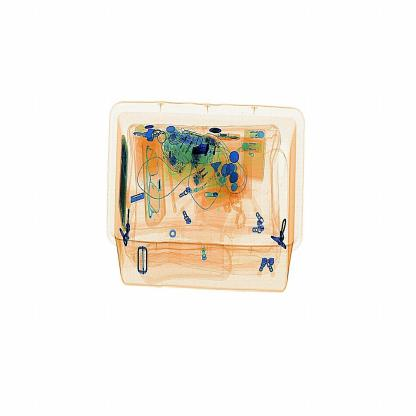knife: (190, 141, 211, 156)
